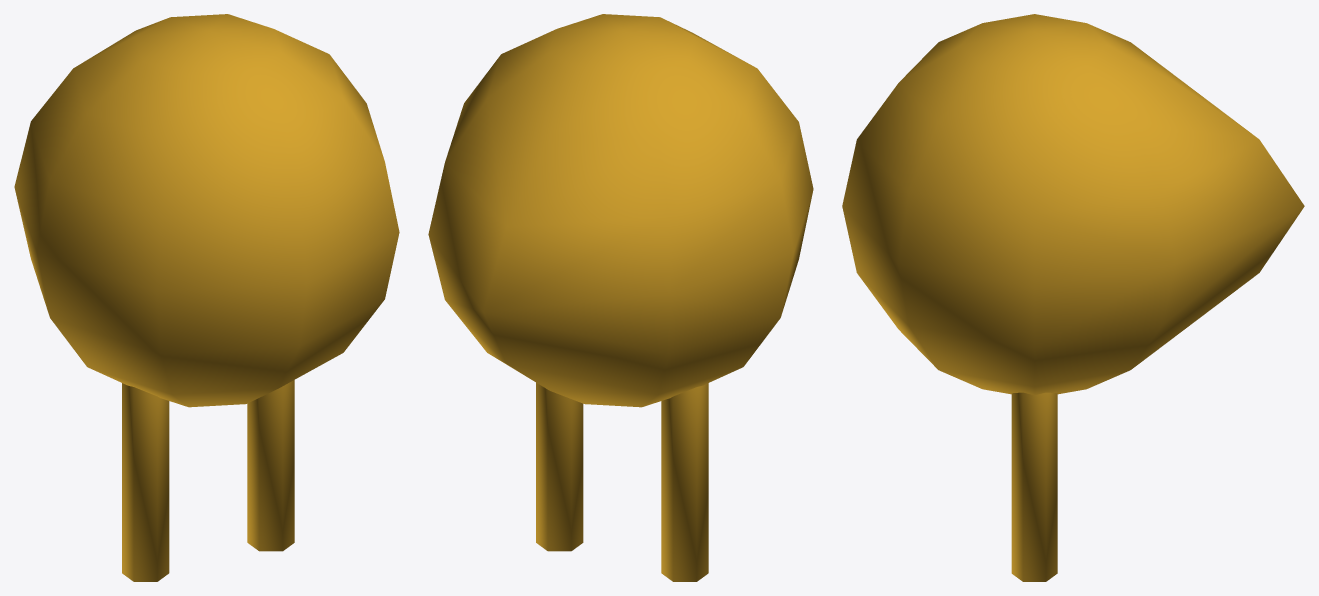
File: teen.fbx
The picture shows the model from 3 angles, left to right: view 1: azimuth 30°, elevation 25°; view 2: azimuth 150°, elevation 25°; view 3: azimuth 270°, elevation 25°; orthographic projection. The views are drawn at different scales.
Visible parts, largest first — view 1: Sphere.001; view 2: Sphere.001; view 3: Sphere.001.
Boxes of the visible parts, box(x1,y1,x2,y2) form: Sphere.001: box(14, 14, 399, 581); Sphere.001: box(428, 14, 813, 581); Sphere.001: box(842, 14, 1304, 581).
Size of the model in its own units: 16.75 by 24.6 by 20.14.
